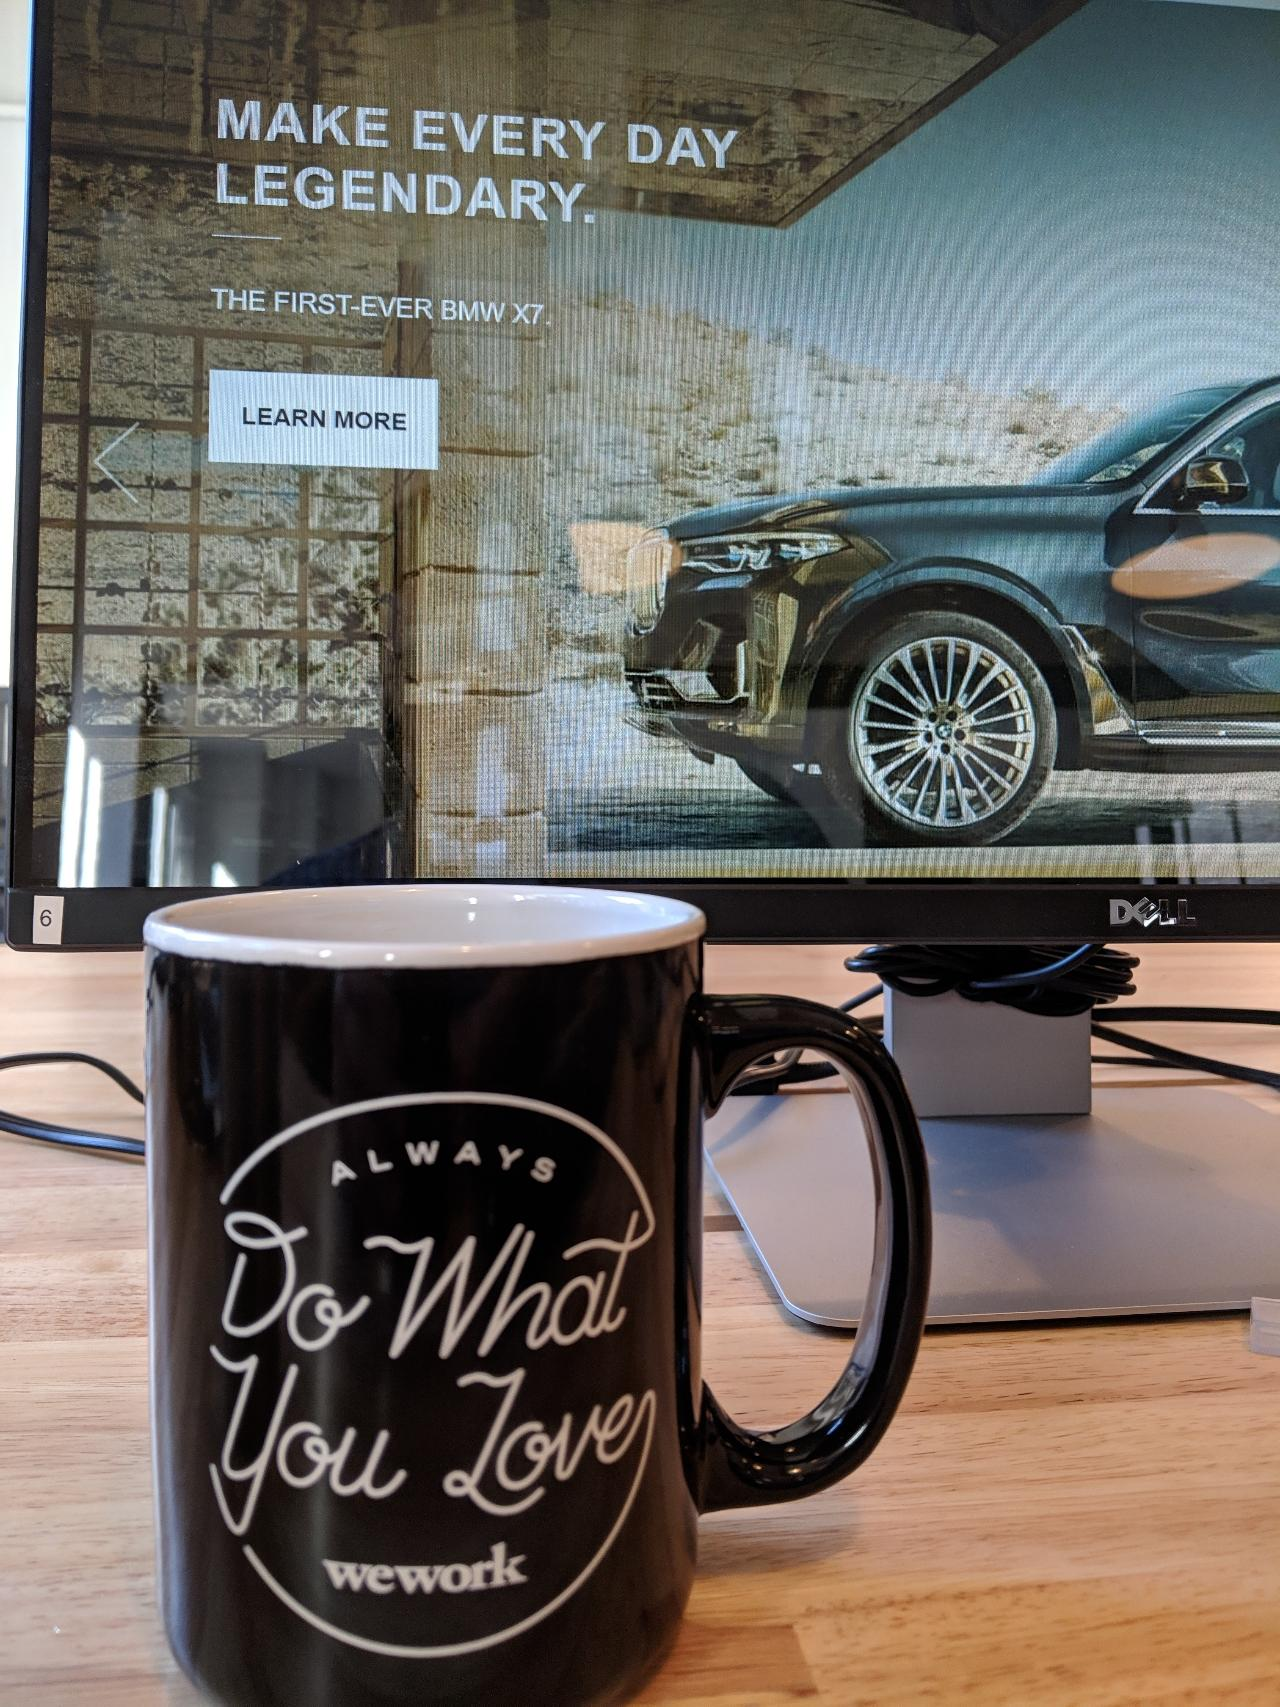wework: (315, 1538, 534, 1599)
